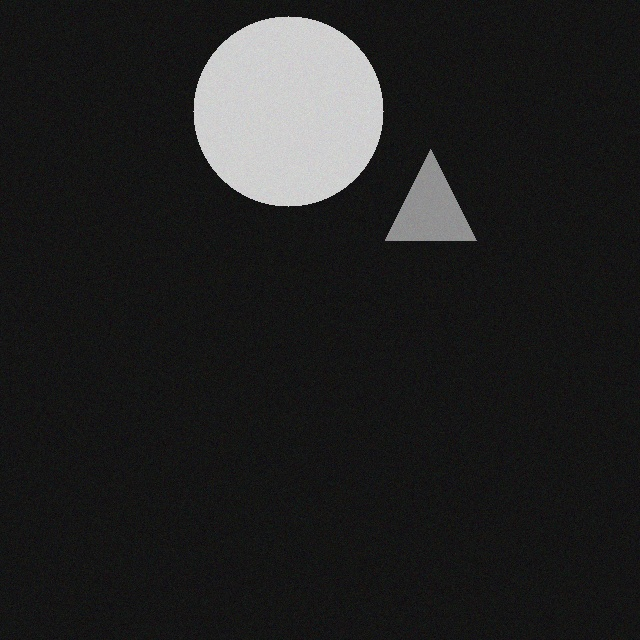circle: (184, 28, 374, 218)
triangle: (376, 161, 467, 252)
